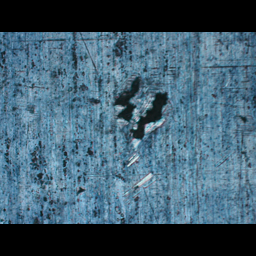d: (107, 77, 172, 174)
